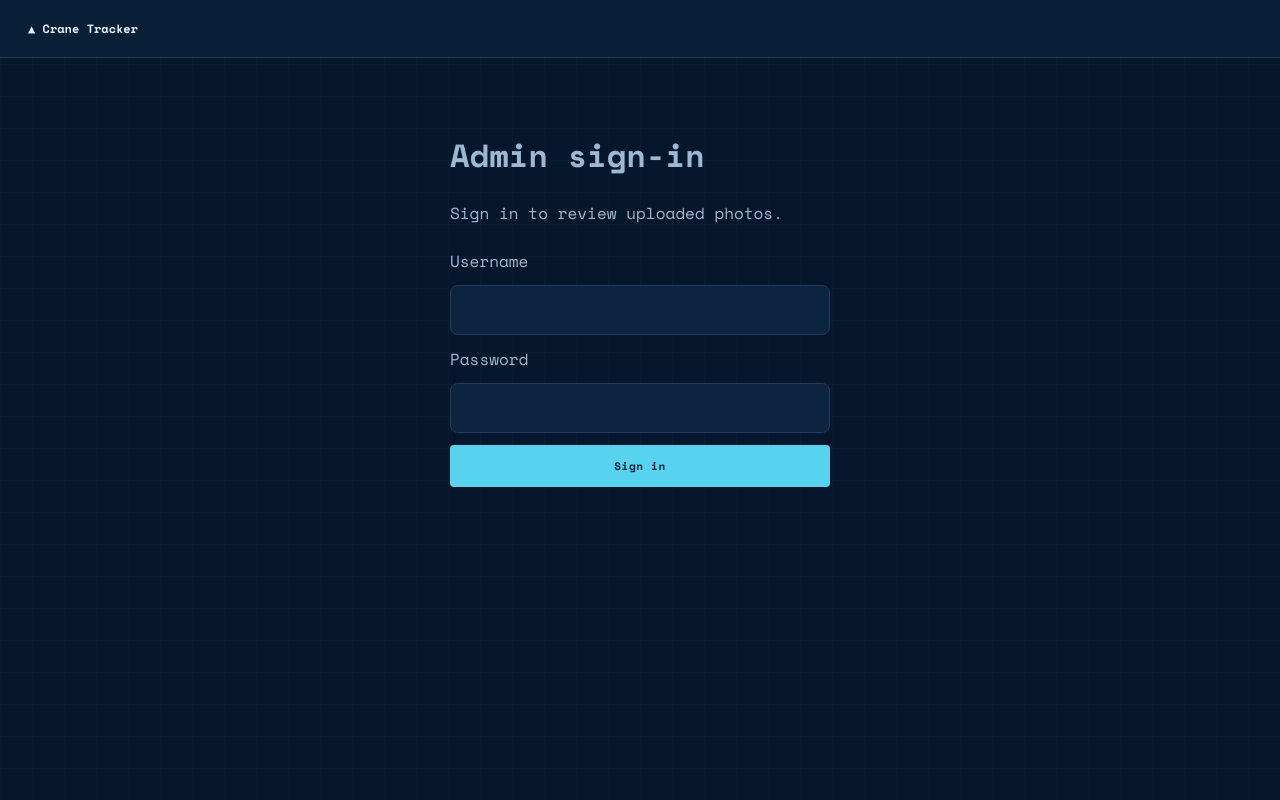
Scenario: AdminPhotosPage › renders moderation metadata and an unavailable-image placeholder
Type "admin" into the field labelled "Username" at (640, 310), box x1=450 y1=285 x2=830 y2=335
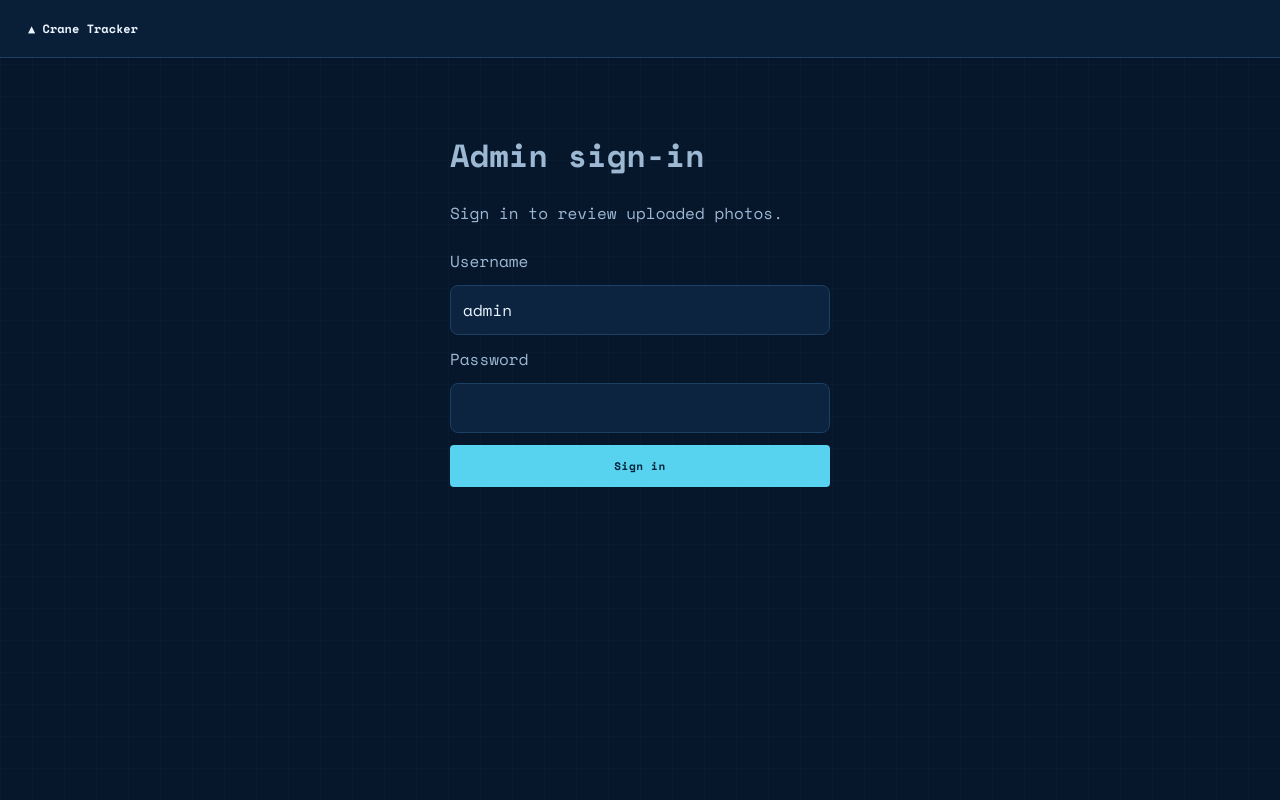
Type "secret" into the password field labelled "Password" at (640, 408), box x1=450 y1=383 x2=830 y2=433
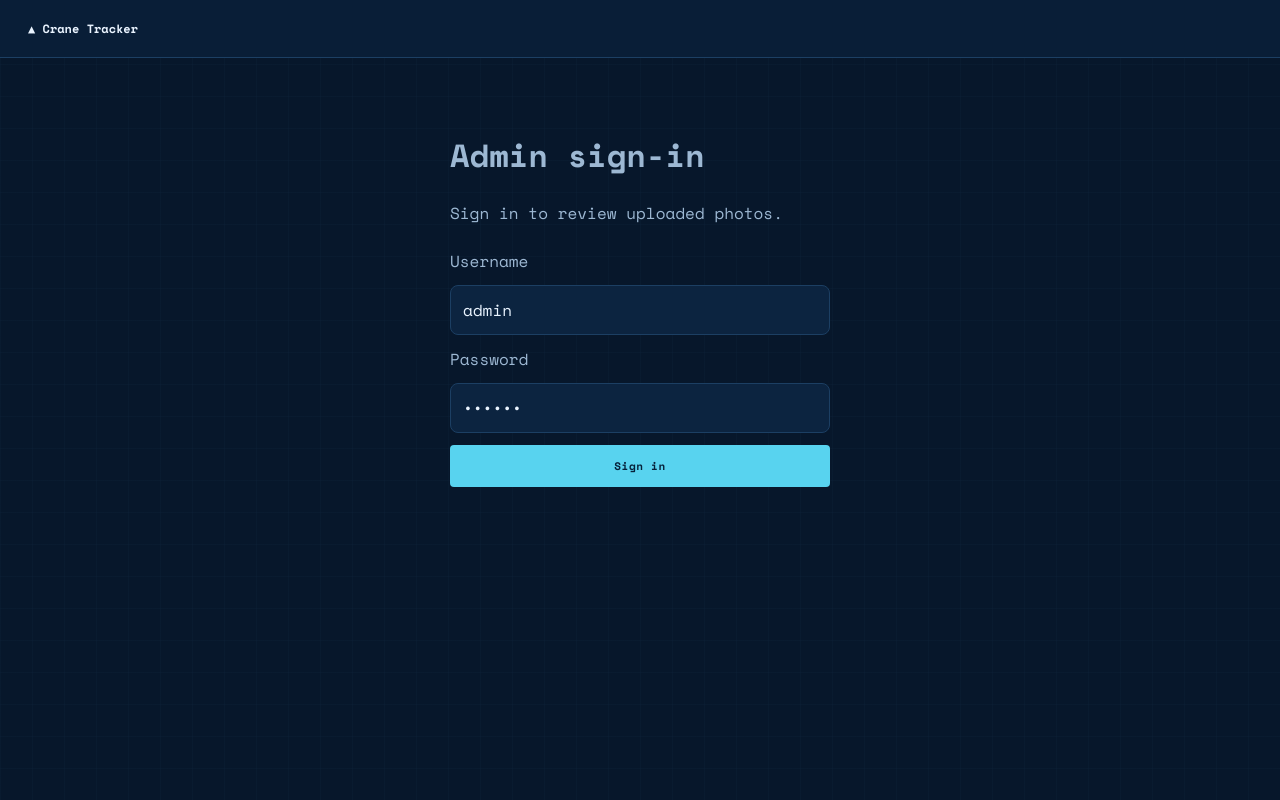
Click the button "Sign in" at (640, 466), box x1=450 y1=445 x2=830 y2=487
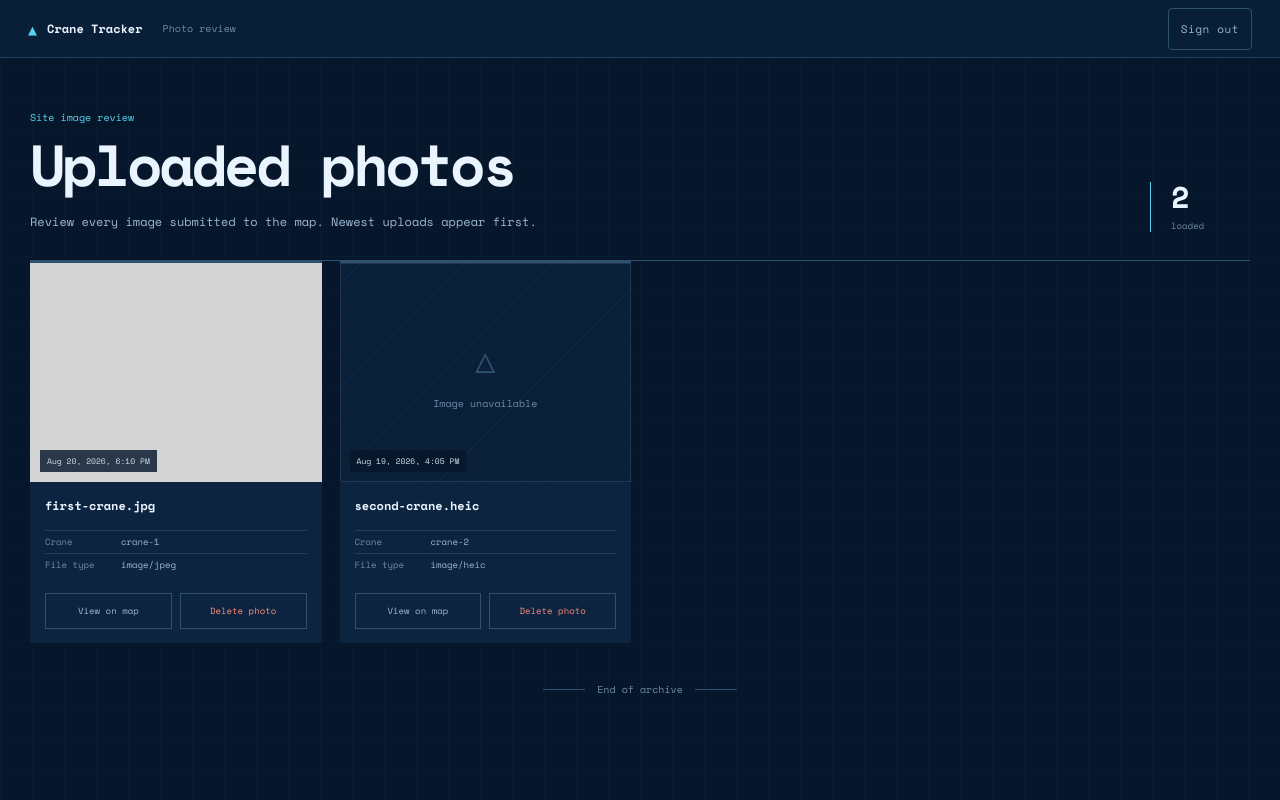
Result: the button "Sign out" is shown at x1=1168 y1=8 x2=1252 y2=50
Result: the heading "first-crane.jpg" is shown at x1=45 y1=497 x2=155 y2=514
Result: the heading "second-crane.heic" is shown at x1=354 y1=497 x2=479 y2=514
